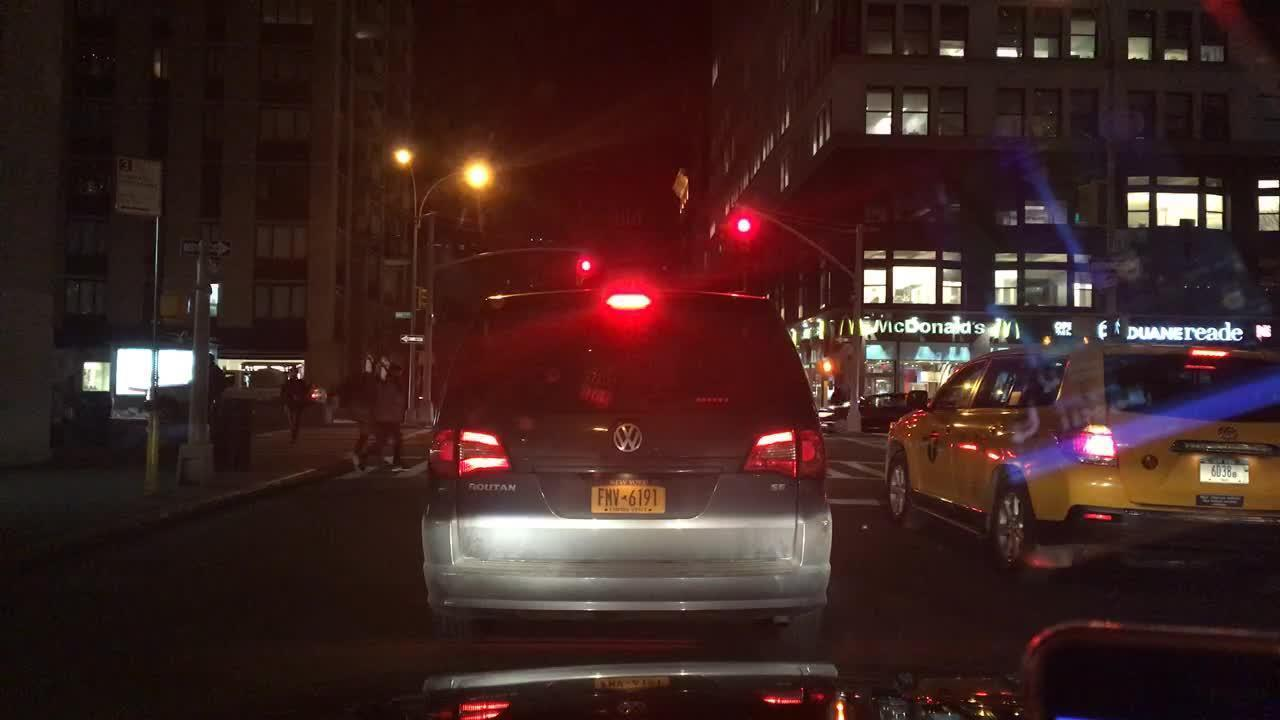Volkswagen: (603, 417, 651, 457)
